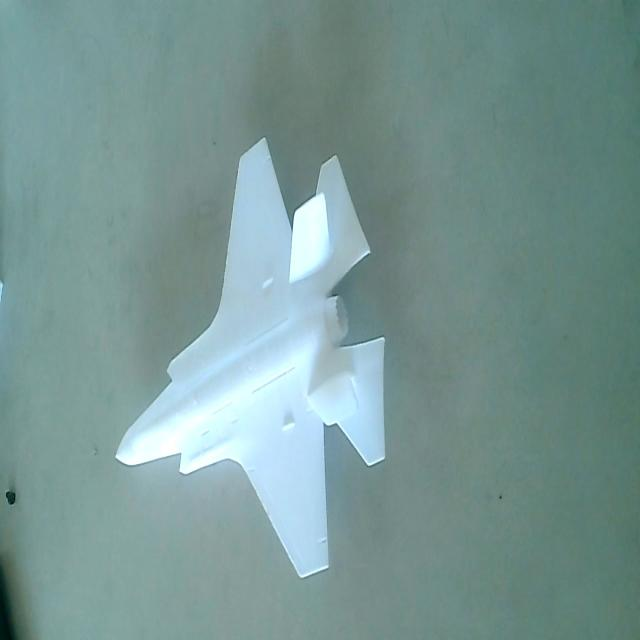Jet: (114, 129, 398, 591)
